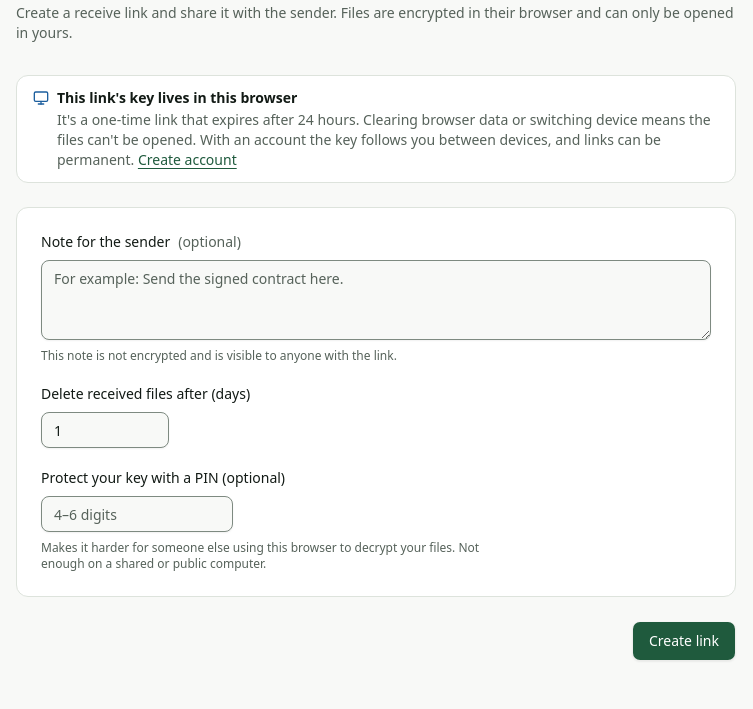
Test: CreateLinkPage › Task 9: warns instead of creating a link when localStorage is unavailable (private browsing/quota)
The width and height of the screenshot is (753, 709).
(page scrolled)
Click the button "Create link" at (684, 641), box [632,621,736,661]
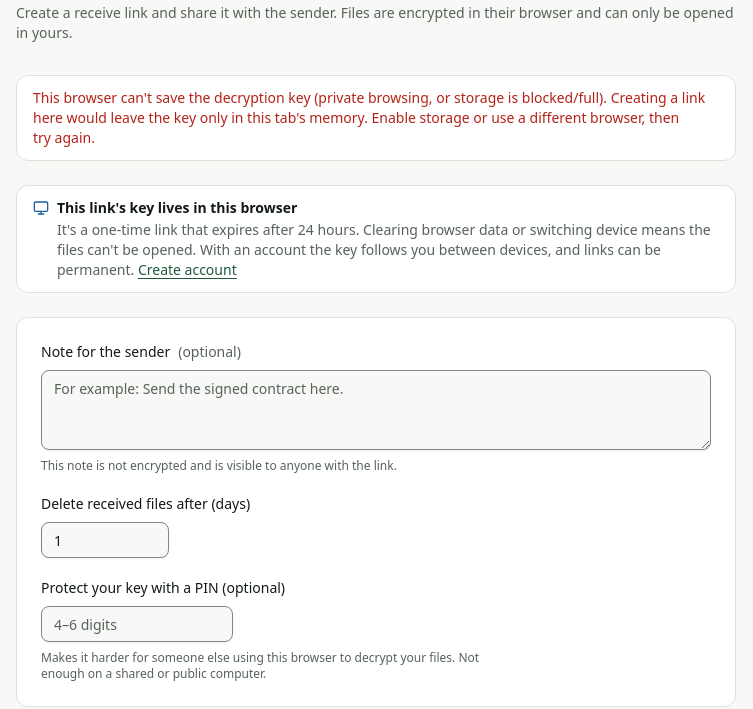
Now the message shows "save the decryption key", box [33,88,705,147]
